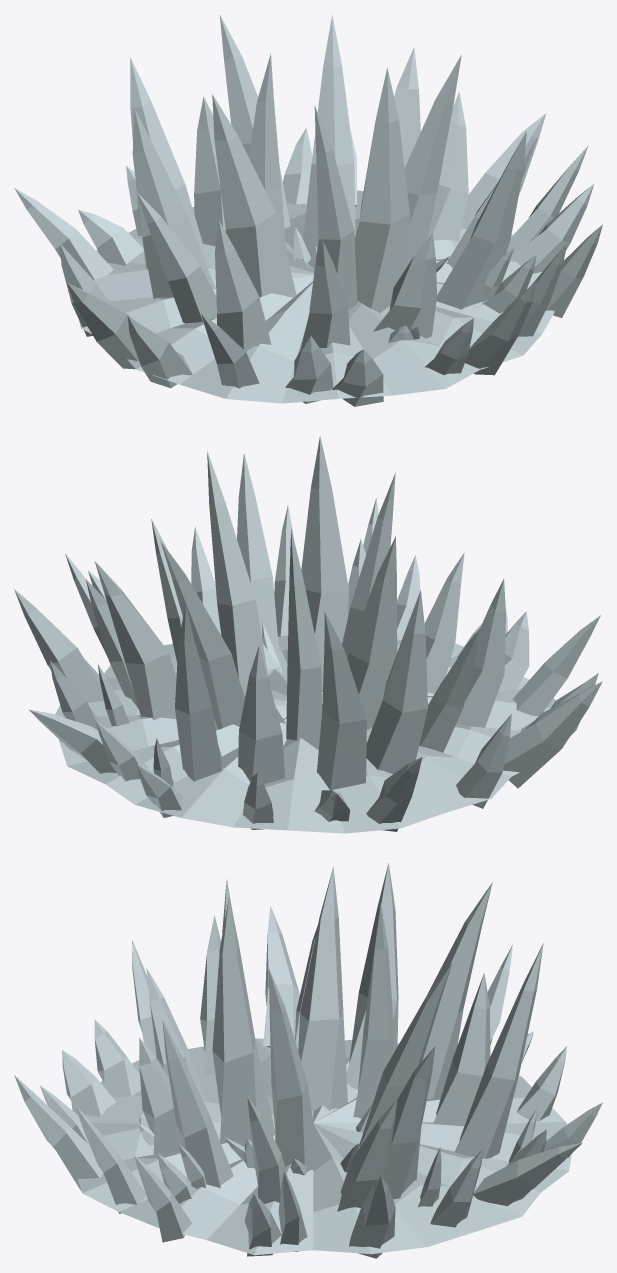
File: ice_burst.glb
The picture shows the model from 3 angles, top to bottom: view 1: azimuth 30°, elevation 25°; view 2: azimuth 150°, elevation 25°; view 3: azimuth 270°, elevation 25°; orthographic projection. The views are drawn at different scales.
Parts seen in each view (by area): view 1: ice_burst; view 2: ice_burst; view 3: ice_burst.
Boxes of the visible parts, left/top/right/bottom form: ice_burst: left=14, top=14, right=602, bottom=406; ice_burst: left=14, top=435, right=602, bottom=833; ice_burst: left=14, top=863, right=602, bottom=1258.
Bounding box in the file's own units: 2.5 × 1.21 × 2.29.
